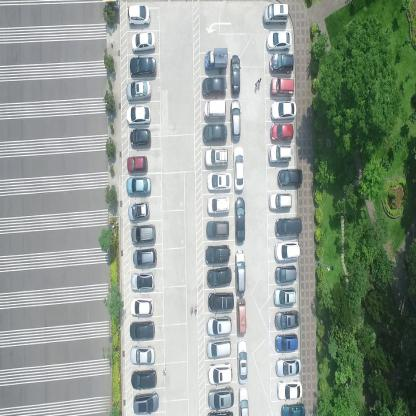car: (206, 385, 234, 410), (132, 390, 160, 415), (262, 1, 289, 26), (129, 56, 158, 79), (206, 361, 233, 385), (204, 46, 228, 72), (265, 29, 292, 52), (275, 378, 302, 401), (127, 3, 151, 28), (205, 242, 231, 265), (126, 79, 152, 102), (130, 368, 157, 390), (234, 250, 246, 298), (237, 339, 249, 387), (131, 30, 156, 53), (269, 52, 295, 74), (130, 272, 156, 294), (129, 320, 155, 342), (275, 216, 302, 237), (233, 147, 245, 193), (275, 308, 300, 330), (207, 170, 232, 192), (126, 104, 151, 126), (126, 175, 151, 197), (129, 296, 154, 318), (276, 356, 302, 377), (208, 290, 234, 311), (132, 247, 158, 268), (202, 78, 229, 98), (205, 316, 232, 336), (205, 339, 232, 359), (129, 344, 156, 364), (234, 195, 245, 244), (275, 241, 300, 262), (206, 267, 232, 287), (276, 168, 303, 187), (207, 194, 230, 216), (270, 75, 294, 96), (268, 144, 292, 165), (269, 122, 295, 141), (202, 124, 228, 143), (130, 127, 152, 149), (127, 201, 150, 222), (268, 192, 292, 212), (273, 287, 297, 307), (275, 334, 299, 354), (203, 100, 227, 120), (205, 146, 229, 166), (206, 220, 230, 240), (271, 99, 296, 118), (131, 224, 156, 243), (230, 53, 241, 96), (230, 99, 241, 141), (274, 264, 297, 284), (236, 298, 248, 336), (126, 155, 148, 173), (280, 402, 306, 415), (238, 388, 250, 415)
